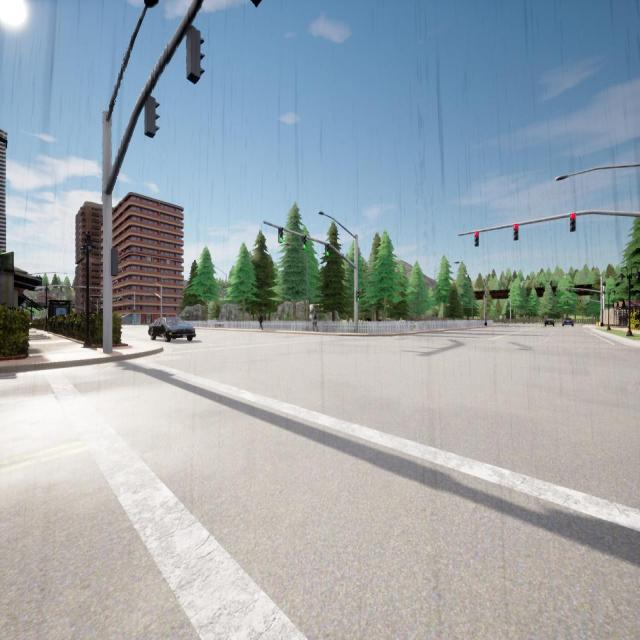Pedestrian: (312, 314, 318, 332), (258, 311, 263, 330)
Traffic_Signs: (500, 316, 502, 318)
Vehicle: (149, 317, 195, 342), (562, 318, 573, 326), (545, 318, 554, 326)
traffic_light: (187, 27, 204, 84), (145, 98, 160, 138), (111, 249, 118, 275), (570, 214, 576, 232), (514, 224, 518, 240), (279, 228, 283, 242), (302, 236, 306, 250), (474, 232, 478, 246), (325, 244, 329, 256), (356, 290, 359, 302), (114, 298, 116, 302), (90, 297, 92, 300), (101, 297, 103, 300), (557, 298, 558, 302), (580, 299, 581, 302), (134, 310, 135, 313), (567, 300, 568, 302), (570, 288, 570, 292)
